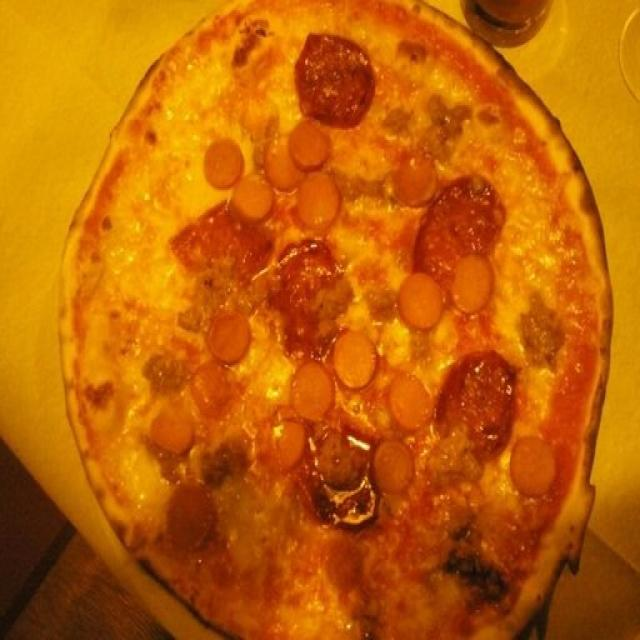Pepperoni: (286, 395, 388, 541), (173, 205, 280, 313), (412, 178, 496, 312), (269, 236, 349, 369), (438, 347, 518, 469), (298, 29, 371, 138)
